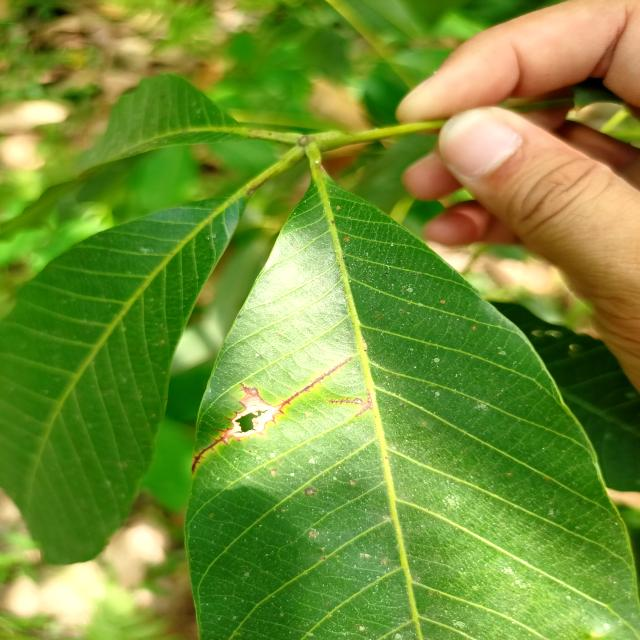Corynespora: (276, 358, 352, 415), (232, 392, 281, 439), (191, 428, 230, 473), (328, 388, 373, 417)
